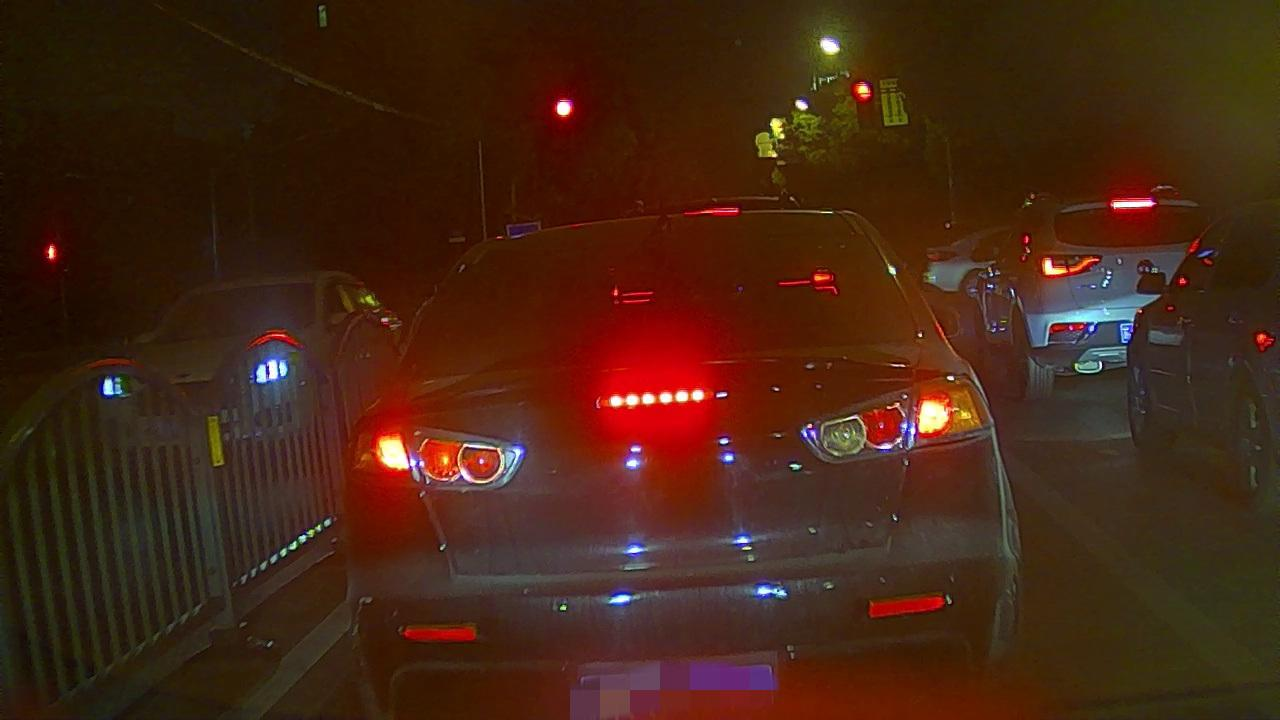traffic_light: (548, 94, 578, 119), (849, 82, 876, 101)
